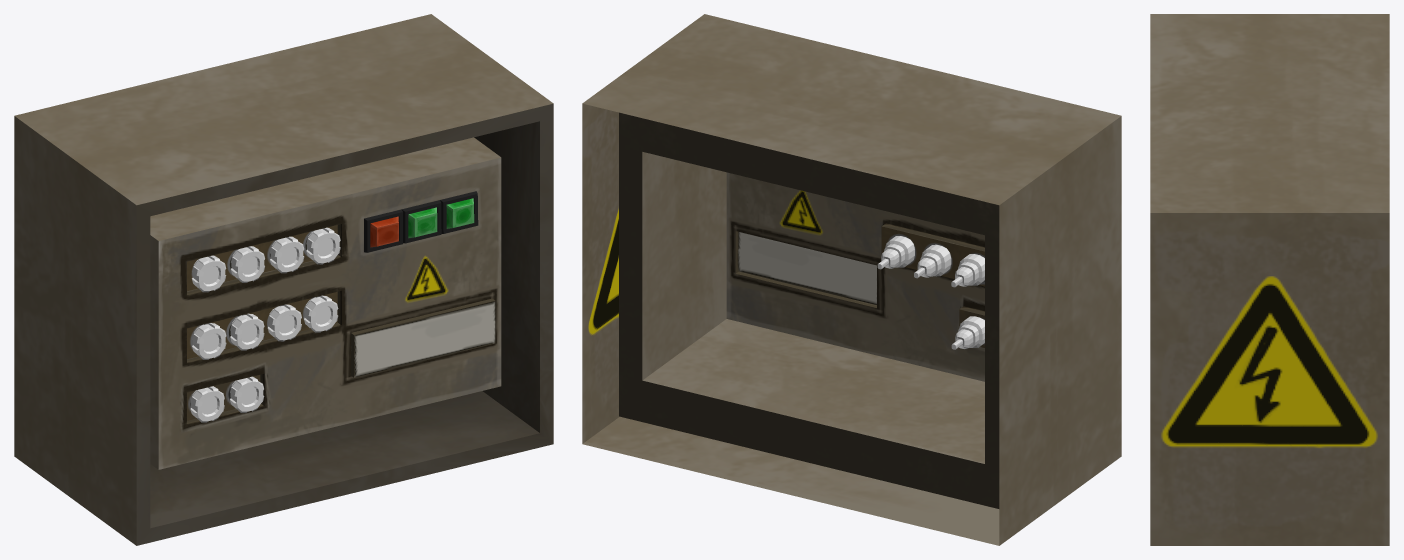
File: Sicherungskasten.fbx
The picture shows the model from 3 angles, left to right: view 1: azimuth 30°, elevation 25°; view 2: azimuth 150°, elevation 25°; view 3: azimuth 270°, elevation 25°; orthographic projection. The views are drawn at different scales.
Parts seen in each view (by area): view 1: Cube.007, Cube.009, Cube.015, Cube.017, Cube.018, Cube.019, Cube.011, Cube.010, Cube.008, Cube.021, Cube.020; view 2: Cube.007, Cube.017, Cube.015, Cube.018, Cube.020; view 3: Cube.007.
Boxes of the visible parts, x1,y1,x2,y2 form: Cube.007: (14,14,553,545); Cube.009: (270,236,304,273); Cube.015: (304,295,338,332); Cube.017: (267,304,301,341); Cube.018: (230,313,264,350); Cube.019: (192,323,226,359); Cube.011: (192,255,226,292); Cube.010: (231,246,264,282); Cube.008: (306,227,340,264); Cube.021: (190,386,224,422); Cube.020: (230,376,264,412); Cube.007: (582,14,1121,545); Cube.017: (914,244,951,278); Cube.015: (877,236,914,269); Cube.018: (951,254,984,287); Cube.020: (951,316,984,349); Cube.007: (1150,14,1389,545).
Bounding box in the file's own units: 425 × 332 × 216.
